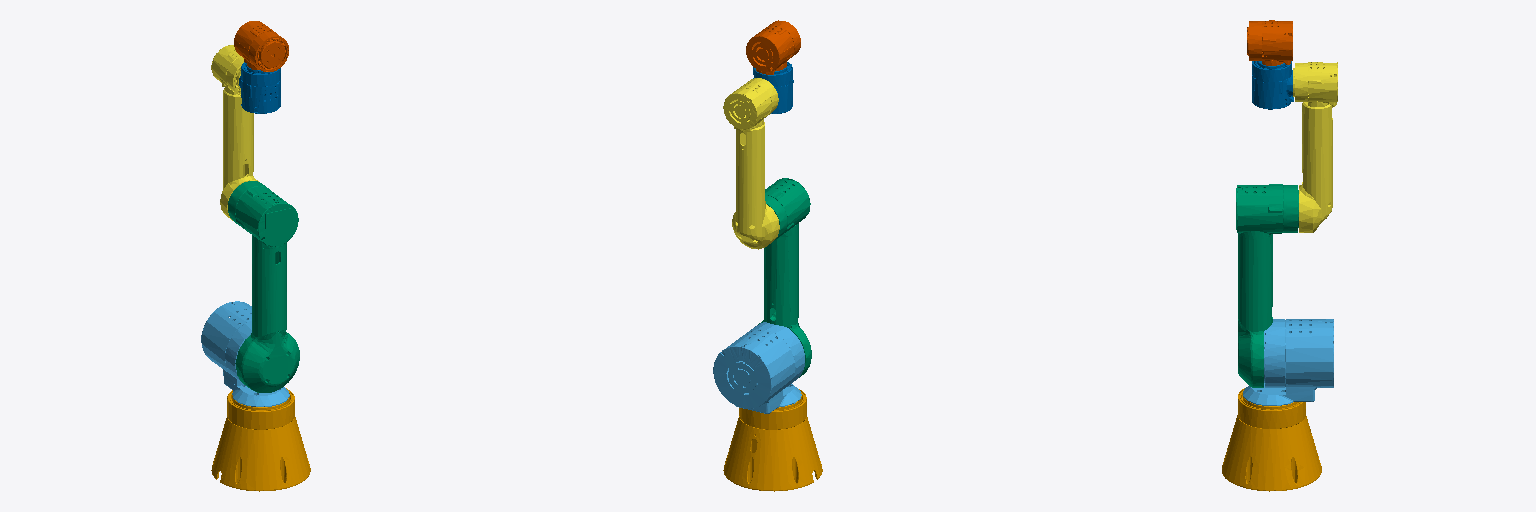
robot.urdf — robot:
<?xml version="1.0"?>
<robot name="robot">

  <link name="base_link">
    <visual>
      <origin xyz="0 0 0" rpy="0 0 0"/>
      <geometry>
        <mesh filename="package://robot_description/meshes/visual/base_link_visual.stl" scale="0.001 0.001 0.001"/>
      </geometry>
    </visual>
    <collision>
      <origin xyz="0 0 0" rpy="0 0 0"/>
      <geometry>
        <mesh filename="package://robot_description/meshes/collision/base_link_collision.stl" scale="0.001 0.001 0.001"/>
      </geometry>
    </collision>
  </link>

  <joint name="shoulder_pan_joint" type="revolute">
    <parent link="base_link"/>
    <child link="shoulder_link"/>
    <origin xyz="0 0 0.10693" rpy="0 0 0"/>
    <axis xyz="0 0 1"/>
    <limit lower="-3.14" upper="3.14" effort="10.0" velocity="1.0"/>
  </joint>

  <link name="shoulder_link">
    <visual>
      <origin xyz="0 0 -0.10693" rpy="0 0 0"/>
      <geometry>
        <mesh filename="package://robot_description/meshes/visual/shoulder_link_visual.stl" scale="0.001 0.001 0.001"/>
      </geometry>
    </visual>
    <collision>
      <origin xyz="0 0 -0.10693" rpy="0 0 0"/>
      <geometry>
        <mesh filename="package://robot_description/meshes/collision/shoulder_link_collision.stl" scale="0.001 0.001 0.001"/>
      </geometry>
    </collision>
  </link>

  <joint name="shoulder_lift_joint" type="revolute">
    <parent link="shoulder_link"/>
    <child link="upper_arm_link"/>
    <origin xyz="0 -0.01163 0.05715" rpy="0 0 0"/>
    <axis xyz="0 1 0"/>
    <limit lower="-2.0" upper="2.0" effort="10.0" velocity="1.0"/>
  </joint>

  <link name="upper_arm_link">
    <visual>
      <origin xyz="0 0.01163 -0.16408" rpy="0 0 0"/>
      <geometry>
        <mesh filename="package://robot_description/meshes/visual/upper_arm_link_visual.stl" scale="0.001 0.001 0.001"/>
      </geometry>
    </visual>
    <collision>
      <origin xyz="0 0.01163 -0.16408" rpy="0 0 0"/>
      <geometry>
        <mesh filename="package://robot_description/meshes/collision/upper_arm_link_collision.stl" scale="0.001 0.001 0.001"/>
      </geometry>
    </collision>
  </link>

  <joint name="elbow_joint" type="revolute">
    <parent link="upper_arm_link"/>
    <child link="forearm_link"/>
    <origin xyz="0 0.04911 0.20320" rpy="0 0 0"/>
    <axis xyz="0 1 0"/>
    <limit lower="-2.5" upper="2.5" effort="10.0" velocity="1.0"/>
  </joint>

  <link name="forearm_link">
    <visual>
      <origin xyz="0 -0.03748 -0.36728" rpy="0 0 0"/>
      <geometry>
        <mesh filename="package://robot_description/meshes/visual/forearm_link_visual.stl" scale="0.001 0.001 0.001"/>
      </geometry>
    </visual>
    <collision>
      <origin xyz="0 -0.03748 -0.36728" rpy="0 0 0"/>
      <geometry>
        <mesh filename="package://robot_description/meshes/collision/forearm_link_collision.stl" scale="0.001 0.001 0.001"/>
      </geometry>
    </collision>
  </link>

  <joint name="wrist_1_joint" type="revolute">
    <parent link="forearm_link"/>
    <child link="wrist_1_link"/>
    <origin xyz="0 -0.01080 0.17780" rpy="0 0 0"/>
    <axis xyz="0 1 0"/>
    <limit lower="-3.14" upper="3.14" effort="5.0" velocity="1.0"/>
  </joint>

  <link name="wrist_1_link">
    <visual>
      <origin xyz="0 -0.02668 -0.54508" rpy="0 0 0"/>
      <geometry>
        <mesh filename="package://robot_description/meshes/visual/wrist_1_link_visual.stl" scale="0.001 0.001 0.001"/>
      </geometry>
    </visual>
    <collision>
      <origin xyz="0 -0.02668 -0.54508" rpy="0 0 0"/>
      <geometry>
        <mesh filename="package://robot_description/meshes/collision/wrist_1_link_collision.stl" scale="0.001 0.001 0.001"/>
      </geometry>
    </collision>
  </link>

  <joint name="wrist_2_joint" type="revolute">
    <parent link="wrist_1_link"/>
    <child link="wrist_2_link"/>
    <origin xyz="0 -0.02667 0.03145" rpy="0 0 0"/>
    <axis xyz="0 0 1"/>
    <limit lower="-3.14" upper="3.14" effort="5.0" velocity="1.0"/>
  </joint>

  <link name="wrist_2_link">
    <visual>
      <origin xyz="0 0.00001 -0.57653" rpy="0 0 0"/>
      <geometry>
        <mesh filename="package://robot_description/meshes/visual/wrist_2_link_visual.stl" scale="0.001 0.001 0.001"/>
      </geometry>
    </visual>
    <collision>
      <origin xyz="0 0.00001 -0.57653" rpy="0 0 0"/>
      <geometry>
        <mesh filename="package://robot_description/meshes/collision/wrist_2_link_collision.stl" scale="0.001 0.001 0.001"/>
      </geometry>
    </collision>
  </link>

<joint name="wrist_3_joint" type="revolute">
    <parent link="wrist_2_link"/>
    <child link="wrist_3_link"/> <origin xyz="0 -0.03145 0.02667" rpy="0 0 0"/> 
    <axis xyz="0 1 0"/> <limit lower="-3.14" upper="3.14" effort="5.0" velocity="1.0"/>
  </joint>

  <link name="wrist_3_link"/>

  <joint name="tool_joint" type="fixed">
    <parent link="wrist_3_link"/>
    <child link="tool0"/>
    <origin xyz="0 0 0" rpy="0 0 0"/>
  </joint>

  <link name="tool0"/>

</robot>

--- Facts derived from the render (not from the file) ---
Views: 3 orthographic renders of the robot side by side, from view 1: azimuth 30°, elevation 25°; view 2: azimuth 150°, elevation 25°; view 3: azimuth 270°, elevation 25°.
Robot: robot — 8 links, 7 joints (6 revolute, 1 fixed); root link base_link; default pose: all joints at 0.
Links seen in each view (by area): view 1: upper_arm_link, base_link, forearm_link, shoulder_link, wrist_2_link, wrist_1_link; view 2: base_link, shoulder_link, forearm_link, upper_arm_link, wrist_2_link, wrist_1_link; view 3: upper_arm_link, base_link, shoulder_link, forearm_link, wrist_2_link, wrist_1_link.
Link boxes in pixels (bbox=[...]): upper_arm_link: bbox=[228, 181, 299, 392]; base_link: bbox=[211, 388, 310, 491]; forearm_link: bbox=[211, 45, 258, 220]; shoulder_link: bbox=[201, 301, 289, 406]; wrist_2_link: bbox=[234, 21, 288, 71]; wrist_1_link: bbox=[239, 62, 280, 113]; base_link: bbox=[723, 389, 822, 491]; shoulder_link: bbox=[713, 322, 804, 413]; forearm_link: bbox=[723, 78, 779, 249]; upper_arm_link: bbox=[758, 178, 811, 377]; wrist_2_link: bbox=[746, 20, 800, 74]; wrist_1_link: bbox=[753, 62, 793, 113]; upper_arm_link: bbox=[1236, 184, 1298, 387]; base_link: bbox=[1222, 388, 1321, 491]; shoulder_link: bbox=[1243, 319, 1333, 405]; forearm_link: bbox=[1293, 62, 1337, 232]; wrist_2_link: bbox=[1247, 20, 1292, 65]; wrist_1_link: bbox=[1252, 61, 1293, 109].
Size in the robot's own frame: 0.1279 by 0.1488 by 0.6288 metres.
6 mesh visuals loaded from 6 distinct referenced files (6 binary STL).
